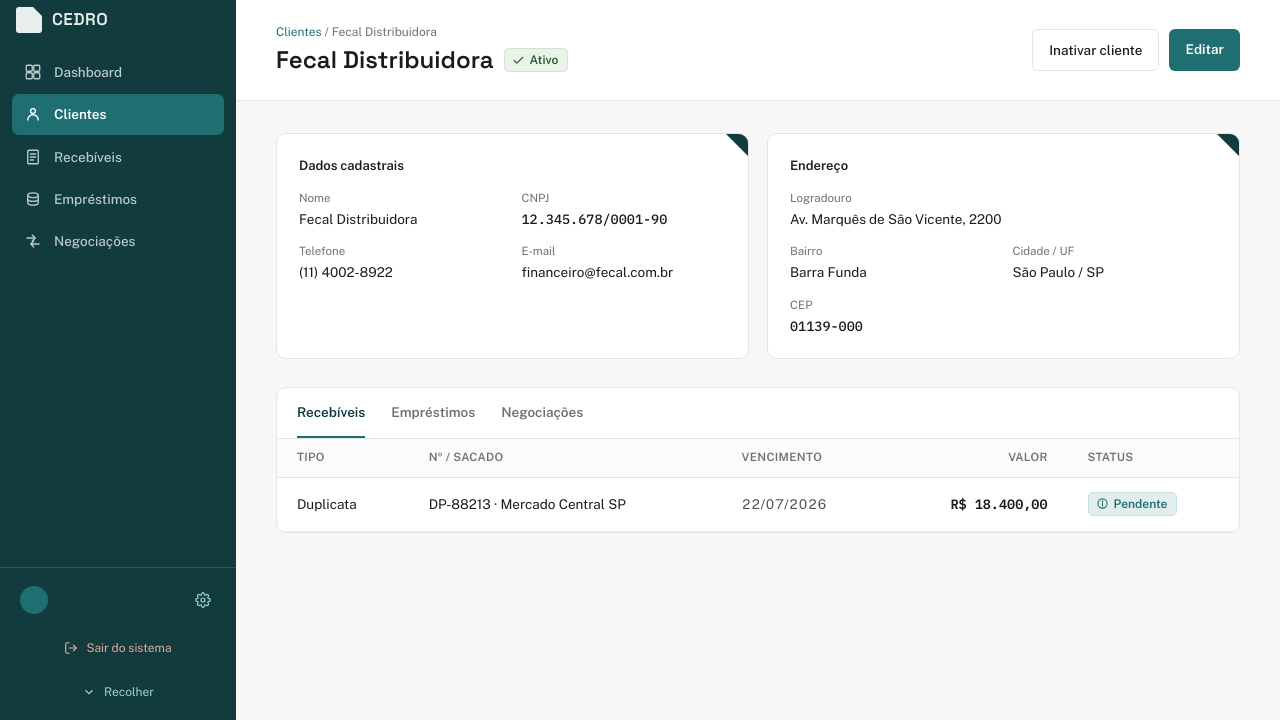
Test: ClienteDetailPage › shows real negotiation counts in the negociações tab
Expected: the heading "Fecal Distribuidora" is shown, [276,44,494,76]
Click the text "Negociações" below "01139-000".
click(542, 412)  # box [501,404,583,420]
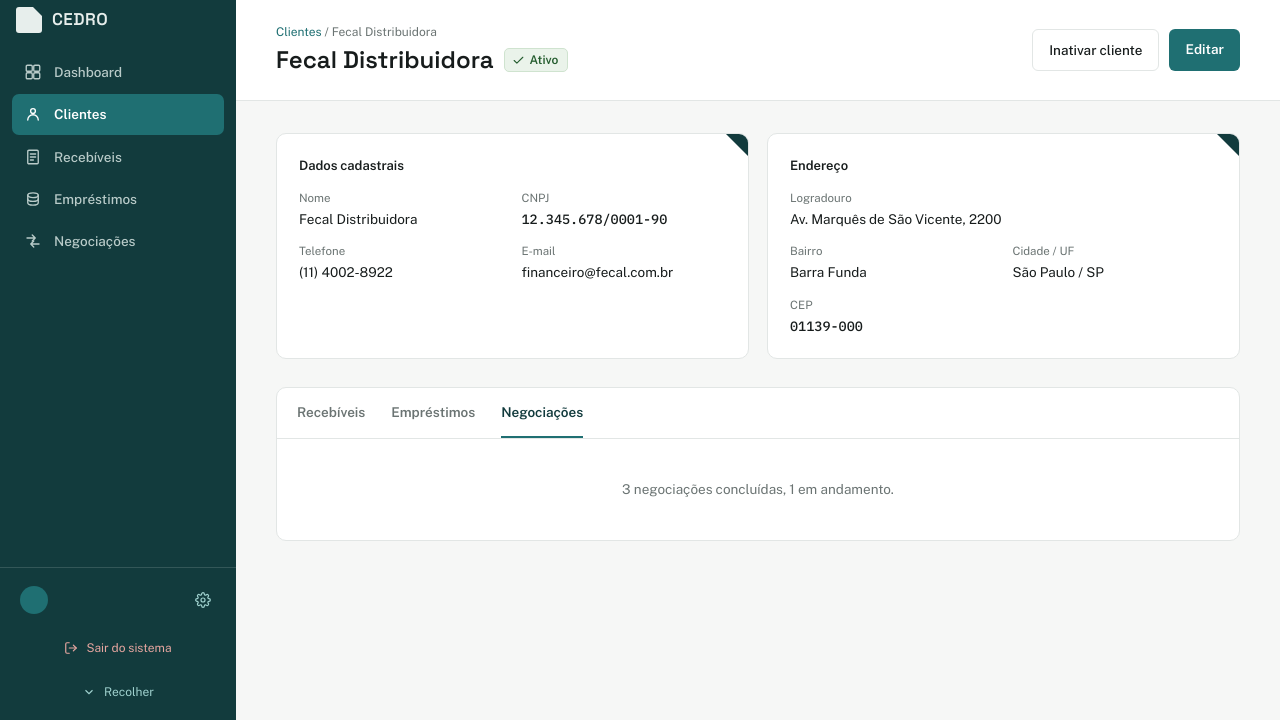
Expected: the text "3 negociações concluídas, 1 em andamento." is shown, [622,481,894,497]
